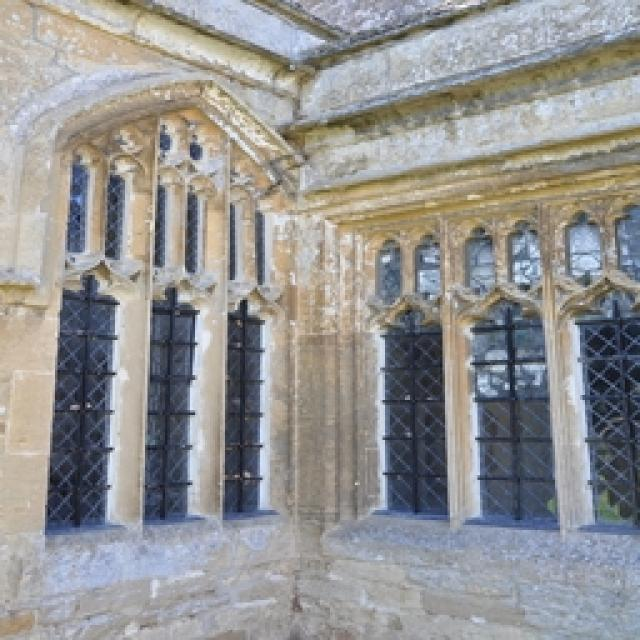Abbey: (1, 3, 640, 595)
